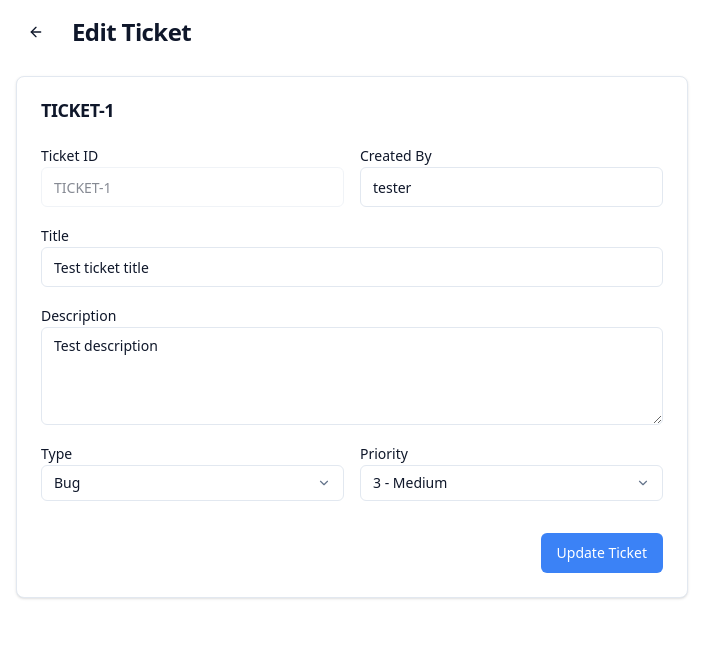
Test case: EditTicketPage › shows error when update mutation fails
This screenshot has width=705, height=652.
Check: the field showing "Test ticket title" is shown, box [41,247,663,287]
Click the button "Update Ticket" at (602, 553), box [540,533,663,573]
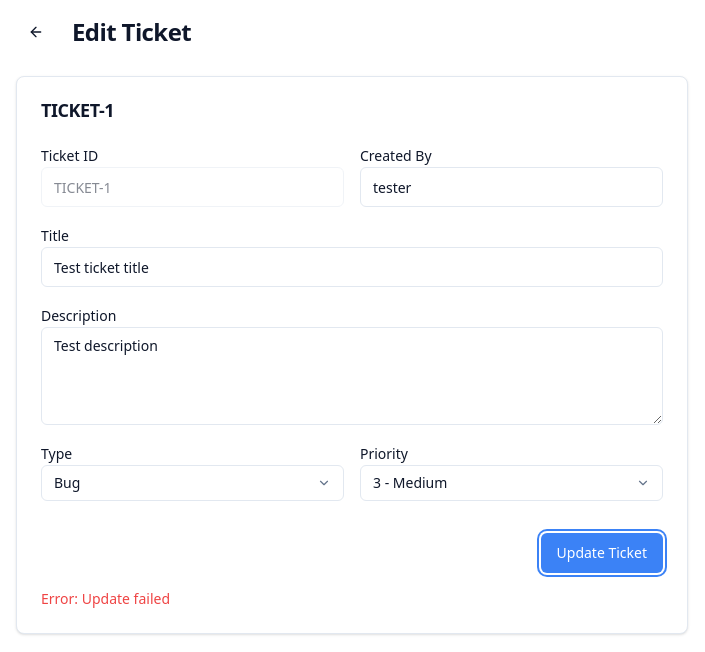
Check: the text "Error: Update failed" is shown, box [41,589,170,608]
